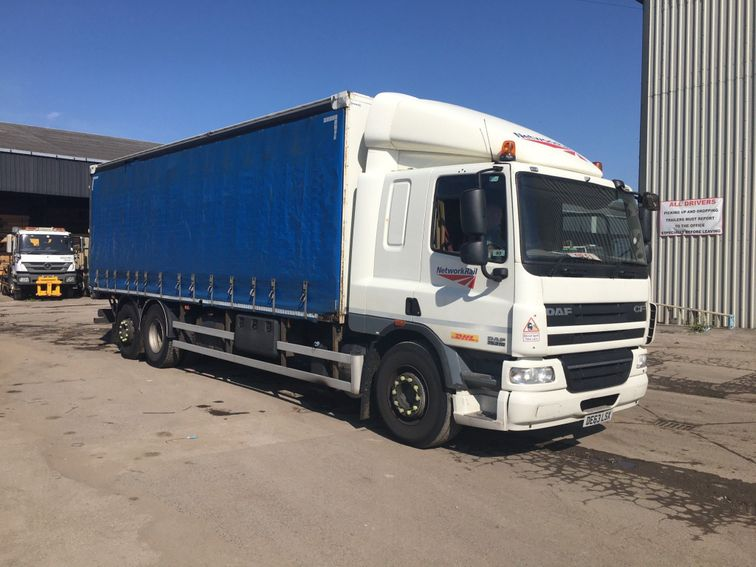Semi: (84, 89, 662, 450), (7, 225, 81, 297)
